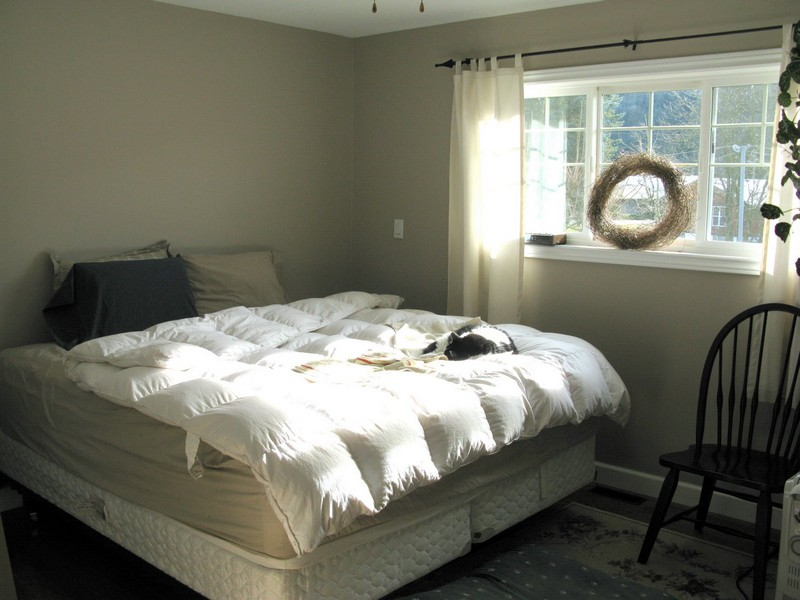bed: (7, 243, 630, 591)
chair: (645, 296, 797, 592)
